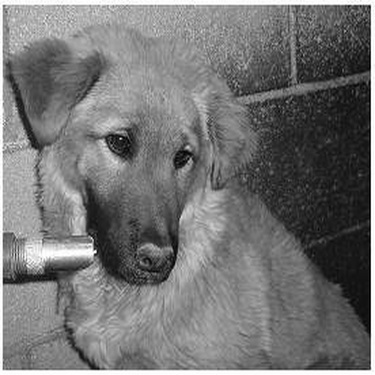dog: (8, 20, 366, 367)
